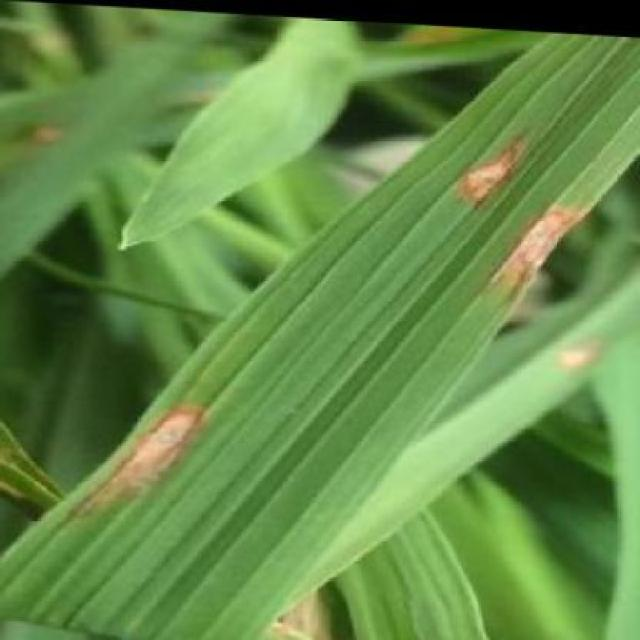Bacterial_Leaf_Blight: (54, 368, 248, 529), (469, 183, 623, 302), (435, 115, 560, 218)
